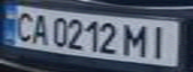0: (48, 15, 69, 48)
1: (81, 18, 103, 53)
2: (96, 19, 124, 55), (63, 16, 84, 52)
A: (27, 11, 51, 46)
C: (9, 8, 39, 43)
I: (145, 22, 175, 60)
M: (121, 20, 151, 58)
